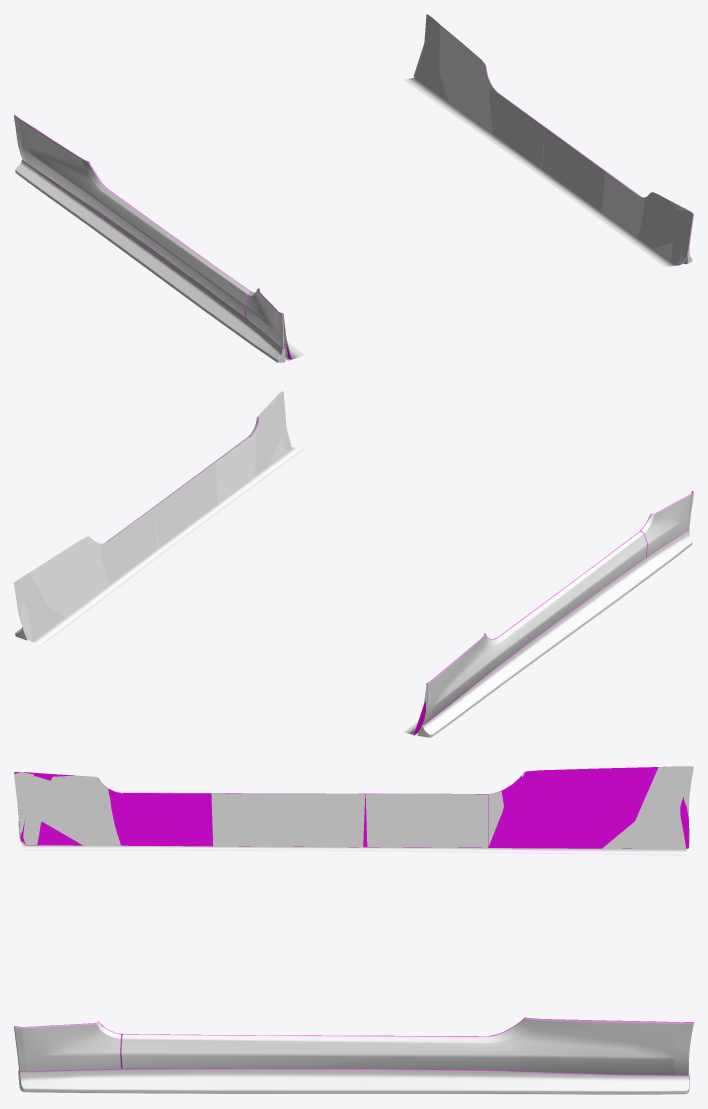
File: Car_Nissan_SkylineGTRVspecR34_1999_Skirts_SetD.fbx
The picture shows the model from 3 angles, top to bottom: view 1: azimuth 30°, elevation 25°; view 2: azimuth 150°, elevation 25°; view 3: azimuth 270°, elevation 25°; orthographic projection. The views are drawn at different scales.
Visible parts, largest first — view 1: Skirts 6; view 2: Skirts 6; view 3: Skirts 6.
Boxes of the visible parts, x1=… form: Skirts 6: x1=14, y1=14, x2=693, y2=362; Skirts 6: x1=14, y1=391, x2=693, y2=737; Skirts 6: x1=14, y1=766, x2=693, y2=1094.
Bounding box in the file's own units: 1.75 × 0.231 × 1.94.
